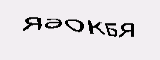Б: (105, 19, 118, 38)
К: (86, 16, 106, 37)
О: (64, 14, 87, 33)
Я: (18, 13, 42, 31), (119, 20, 137, 39)
Ә: (43, 15, 63, 30)
